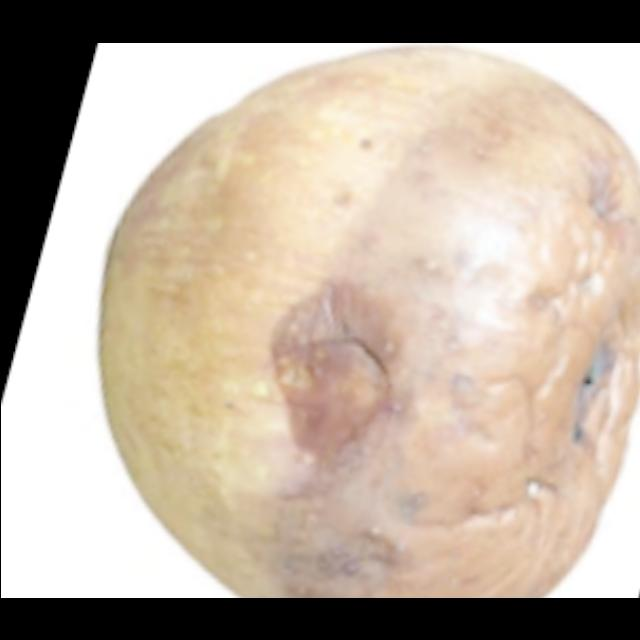Apel Tidak Segar: (90, 42, 640, 598)
